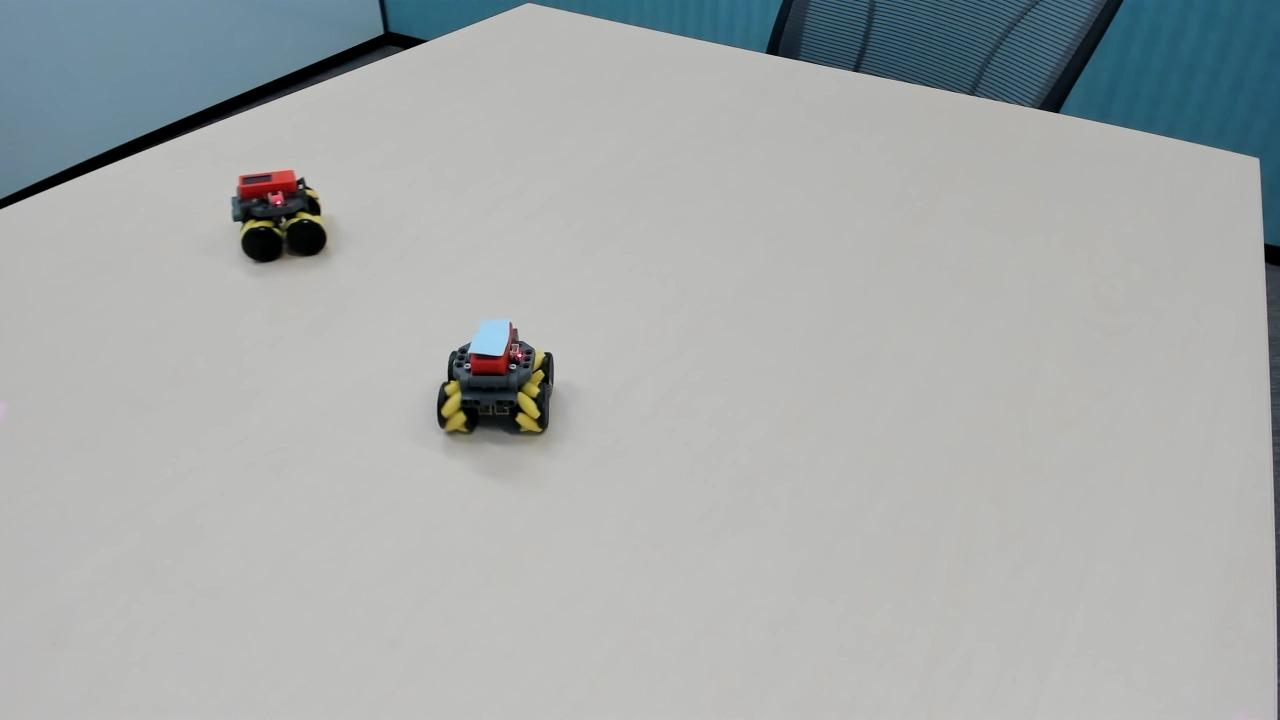B-Robot: (429, 306, 583, 468)
R-Robot: (225, 161, 338, 276)
